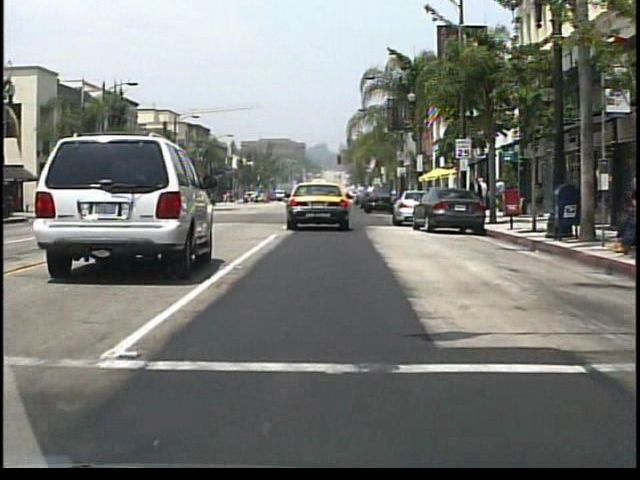person: (576, 195, 629, 252), (468, 175, 484, 220), (477, 178, 490, 217), (500, 181, 512, 215), (488, 183, 500, 215)
